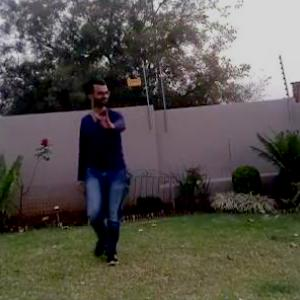takeoff-hand: (92, 100, 118, 131)
